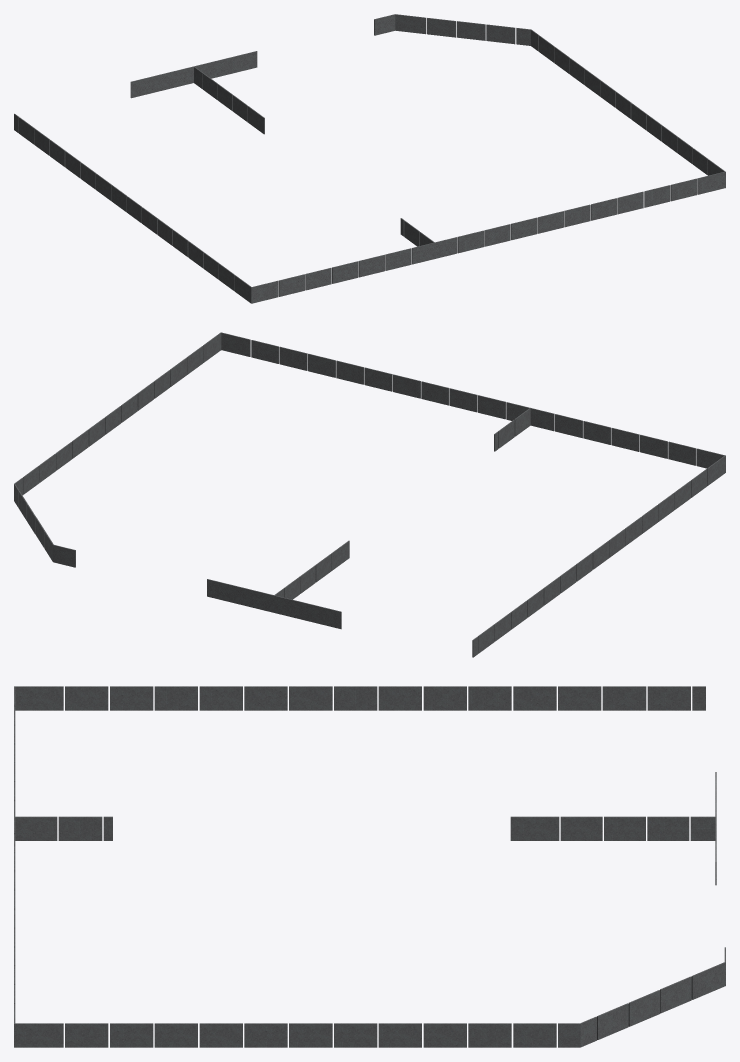
File: main_buildingsingle_fence.fbx
The picture shows the model from 3 angles, top to bottom: view 1: azimuth 30°, elevation 25°; view 2: azimuth 150°, elevation 25°; view 3: azimuth 270°, elevation 25°; orthographic projection. The views are drawn at different scales.
Visible parts, largest first — view 1: Mesh4181, Mesh21683, Mesh4147; view 2: Mesh4181, Mesh21683, Mesh4147; view 3: Mesh4181, Mesh21683, Mesh4147.
Boxes of the visible parts, box(x1,y1,x2,y2) form: Mesh4181: box(194, 14, 725, 258); Mesh21683: box(14, 66, 434, 303); Mesh4147: box(194, 66, 435, 258); Mesh4181: box(14, 332, 529, 612); Mesh21683: box(274, 408, 725, 657); Mesh4147: box(274, 408, 530, 599); Mesh4181: box(14, 817, 725, 1047); Mesh21683: box(14, 686, 716, 817); Mesh4147: box(14, 816, 715, 840).
Bounding box in the file's own units: 55244 × 1800 × 49259.
Materials: 1 (1 with a texture image).
